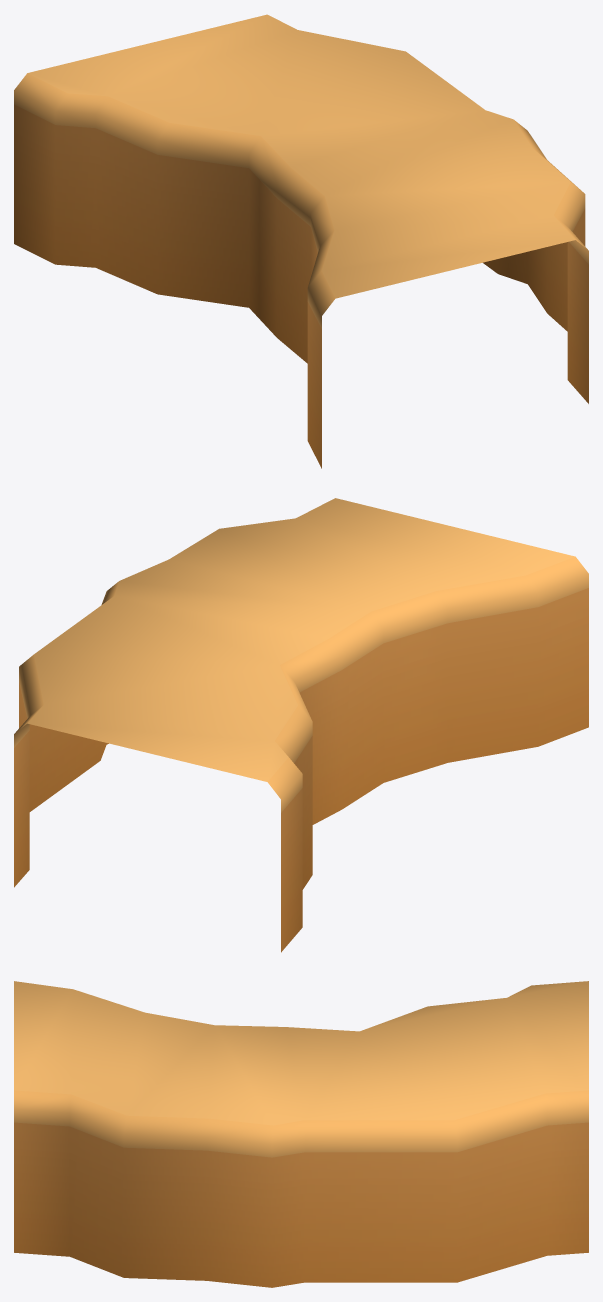
File: Straight L Path 03.FBX
3 views of the same model, one above another, from view 1: azimuth 30°, elevation 25°; view 2: azimuth 150°, elevation 25°; view 3: azimuth 270°, elevation 25° (orthographic). The views are drawn at different scales.
Parts seen in each view (by area): view 1: Straight L Path 03; view 2: Straight L Path 03; view 3: Straight L Path 03.
Part boxes in pixels (left/top/right/bottom): Straight L Path 03: left=14, top=14, right=588, bottom=468; Straight L Path 03: left=14, top=498, right=588, bottom=952; Straight L Path 03: left=14, top=981, right=588, bottom=1287.
Bounding box in the file's own units: 644 × 300 × 1000.
1 material, 1 textured.
